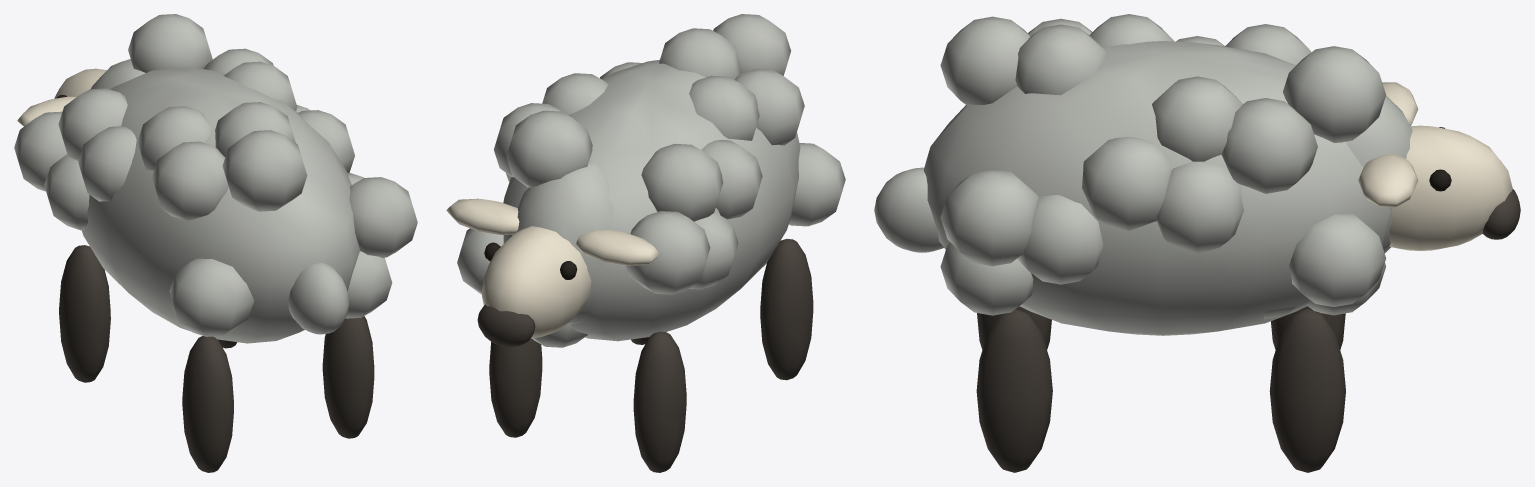
The model's file is sheep.glb.
The picture shows the model from 3 angles, left to right: view 1: azimuth 30°, elevation 25°; view 2: azimuth 150°, elevation 25°; view 3: azimuth 270°, elevation 25°; orthographic projection. The views are drawn at different scales.
Visible parts, largest first — view 1: wool body, foot.002, foot, foot.003, face; view 2: wool body, face, foot, foot.002, foot.001, nose, eye; view 3: wool body, face, foot.001, foot.003, nose, foot.002, foot.
Part boxes in pixels (x1=…): wool body: x1=14, y1=14, x2=417, y2=343; foot.002: x1=182, y1=336, x2=233, y2=472; foot: x1=59, y1=245, x2=110, y2=382; foot.003: x1=322, y1=316, x2=374, y2=438; face: x1=17, y1=68, x2=106, y2=126; wool body: x1=457, y1=14, x2=845, y2=347; face: x1=446, y1=198, x2=660, y2=338; foot: x1=633, y1=331, x2=686, y2=472; foot.002: x1=760, y1=239, x2=813, y2=380; foot.001: x1=489, y1=338, x2=542, y2=437; nose: x1=477, y1=304, x2=535, y2=347; eye: x1=484, y1=242, x2=577, y2=279; wool body: x1=874, y1=14, x2=1412, y2=335; face: x1=1358, y1=82, x2=1512, y2=250; foot.001: x1=1269, y1=309, x2=1345, y2=472; foot.003: x1=976, y1=309, x2=1052, y2=472; nose: x1=1482, y1=189, x2=1520, y2=239; foot.002: x1=977, y1=306, x2=1051, y2=349; foot: x1=1271, y1=306, x2=1345, y2=349.
Bounding box in the file's own units: 0.8598 × 1.1 × 1.61.
